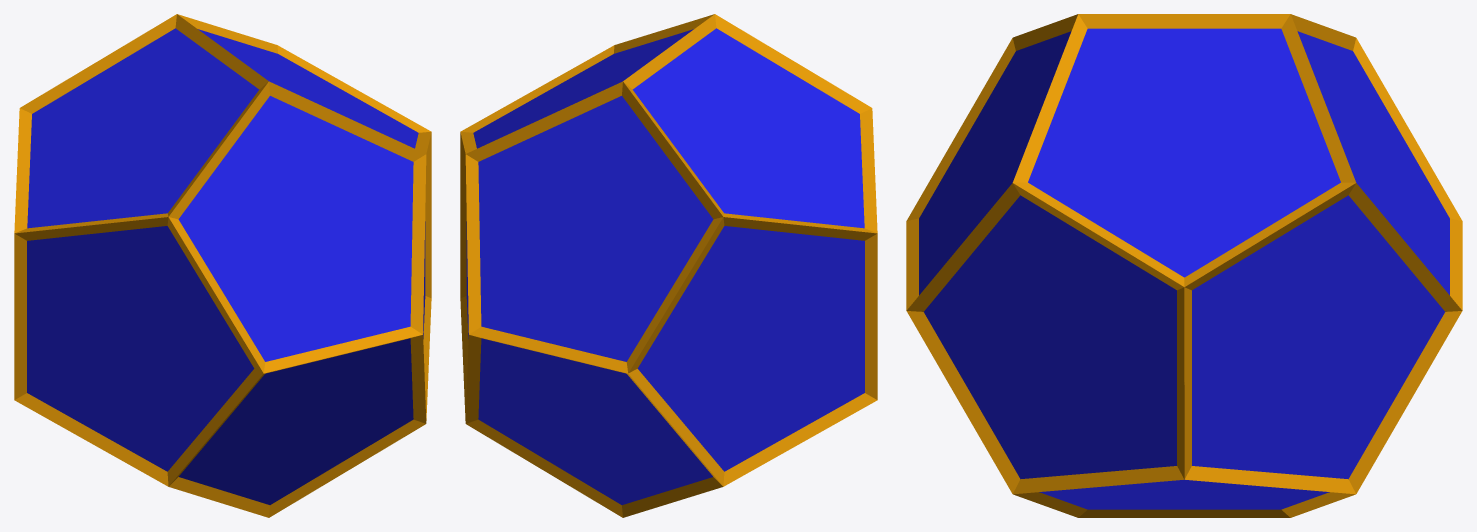
The picture shows the model from 3 angles, left to right: view 1: azimuth 30°, elevation 25°; view 2: azimuth 150°, elevation 25°; view 3: azimuth 270°, elevation 25°; orthographic projection. The views are drawn at different scales.
Visible parts, largest first — view 1: d12; view 2: d12; view 3: d12.
Part boxes in pixels (x1,y1,x2,y2): d12: (14,14,431,517); d12: (460,14,877,517); d12: (906,14,1462,517).
Bounding box in the file's own units: 1.92 × 1.92 × 1.92.
